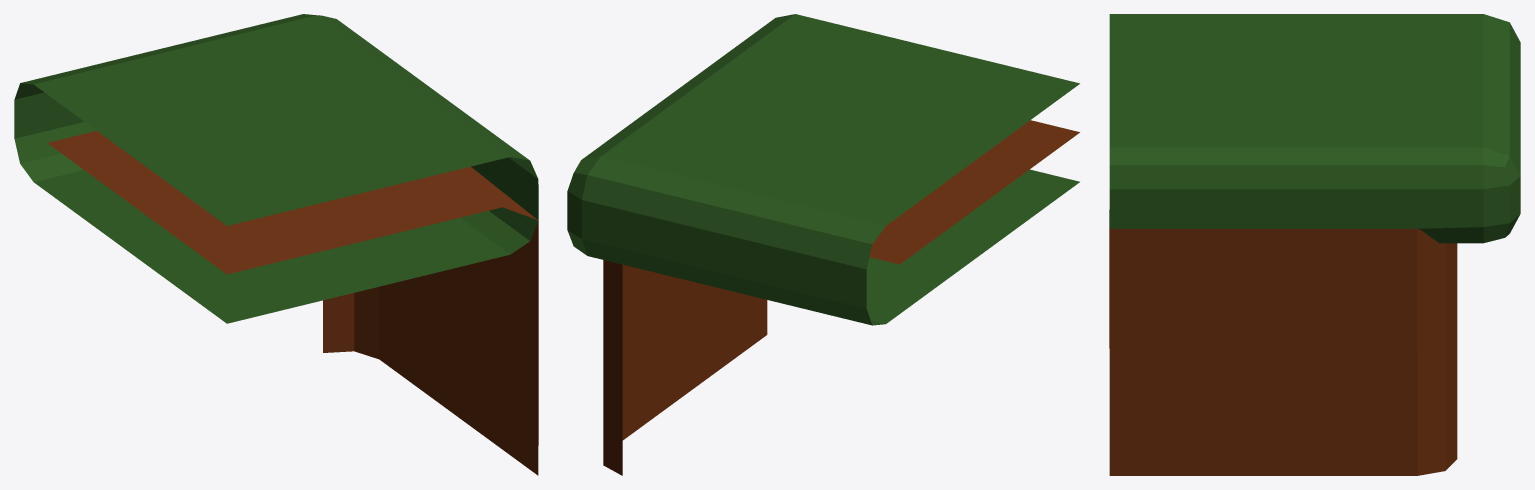
Rendered from RightRightUp.fbx.
The picture shows the model from 3 angles, left to right: view 1: azimuth 30°, elevation 25°; view 2: azimuth 150°, elevation 25°; view 3: azimuth 270°, elevation 25°; orthographic projection. The views are drawn at different scales.
Parts seen in each view (by area): view 1: RightRightUp; view 2: RightRightUp; view 3: RightRightUp.
Part boxes in pixels (bbox=[...]): RightRightUp: bbox=[14, 14, 538, 475]; RightRightUp: bbox=[567, 14, 1079, 475]; RightRightUp: bbox=[1109, 14, 1520, 475].
Size of the model in its own units: 200 by 200 by 237.
